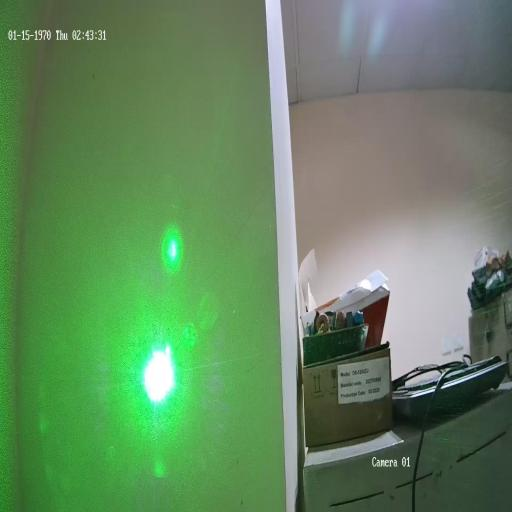laser: (138, 331, 180, 411)
